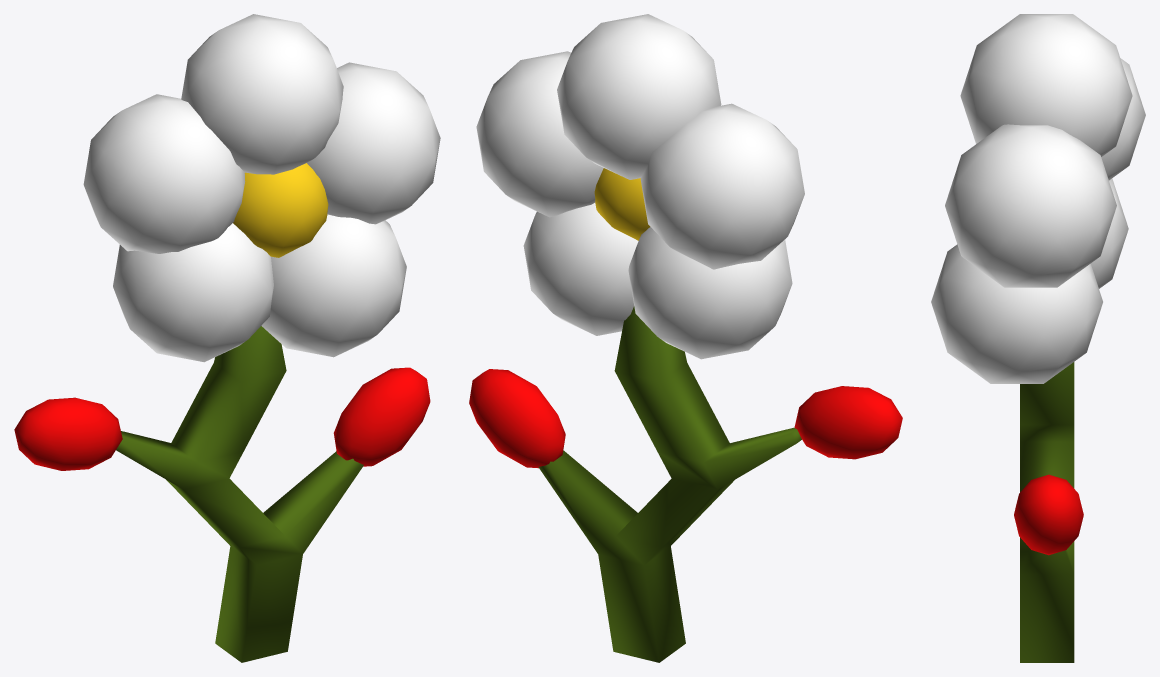
Rendered from papatya yeni.fbx.
The picture shows the model from 3 angles, left to right: view 1: azimuth 30°, elevation 25°; view 2: azimuth 150°, elevation 25°; view 3: azimuth 270°, elevation 25°; orthographic projection. The views are drawn at different scales.
Parts seen in each view (by area): view 1: Küp.001; view 2: Küp.001; view 3: Küp.001.
Boxes of the visible parts, <box> form: Küp.001: <box>14,14,440,662</box>; Küp.001: <box>469,14,902,662</box>; Küp.001: <box>931,14,1145,662</box>.
Bounding box in the file's own units: 27.51 × 39.22 × 11.95.
Materials: 1 (1 with a texture image).
